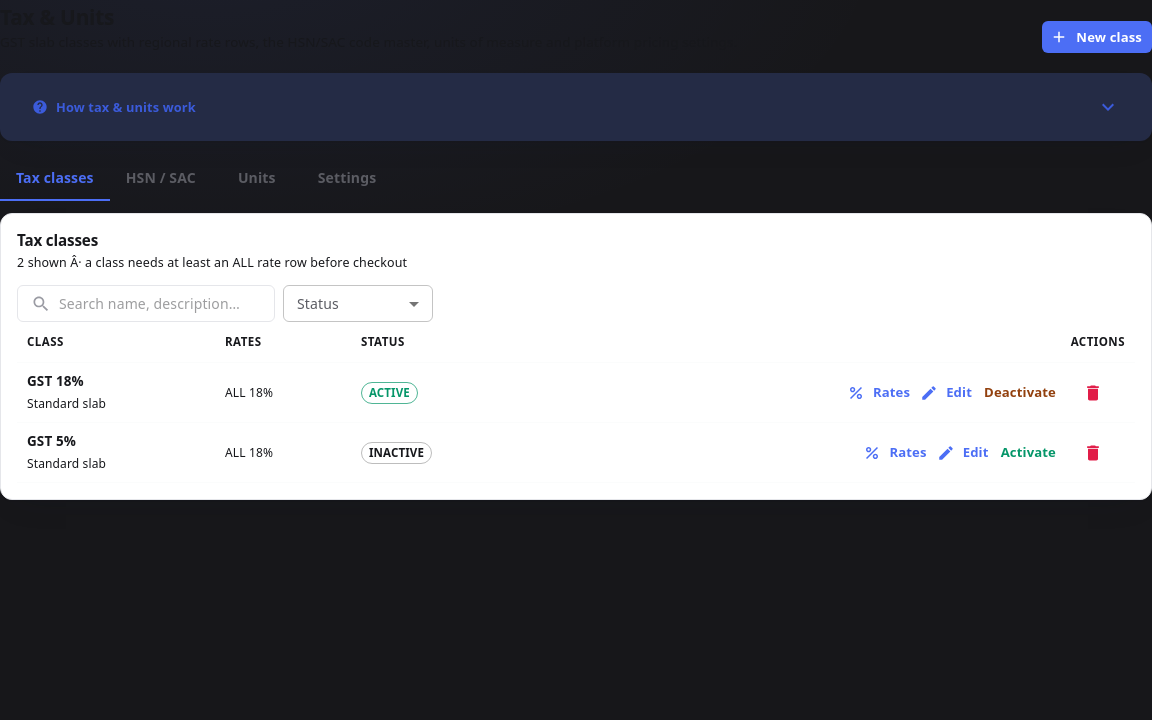
Scenario: TaxAdminView (admin) › opens the Rates drawer for a class
Click the button "Rates" in the row of "GST 18%" at [880, 393], box [844,377,915,409]
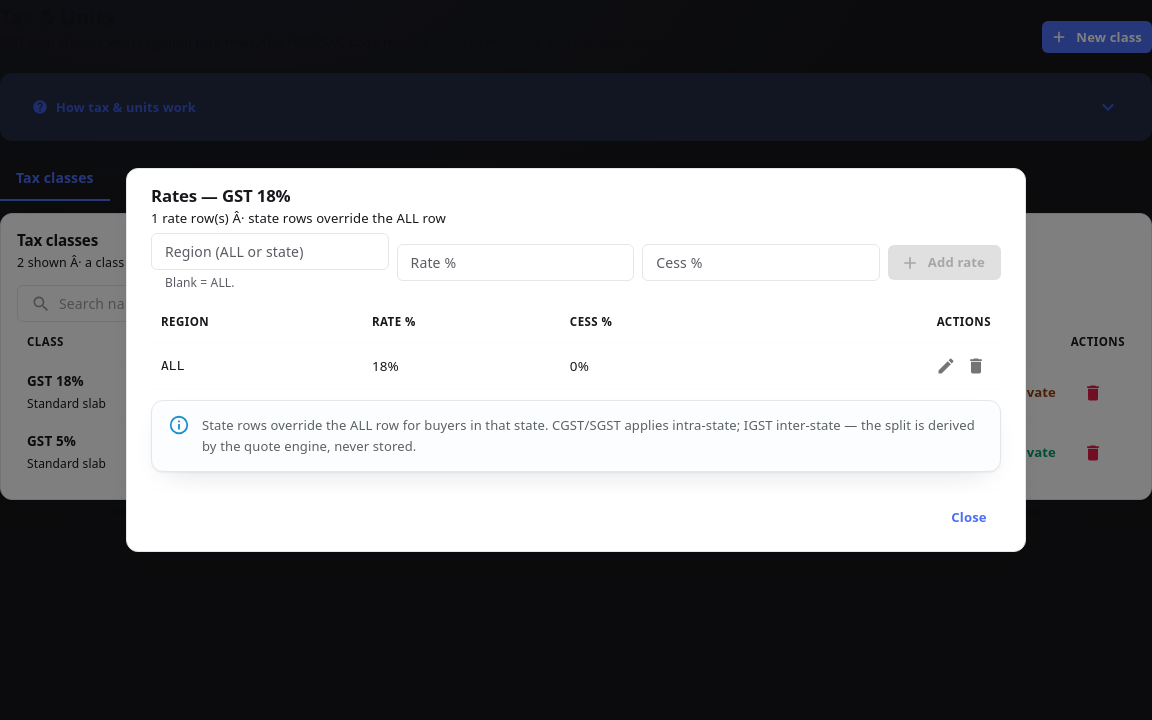
Expected: the heading "Rates — GST 18%" is shown, [151,184,290,207]
Expected: the button "Add rate" is shown, [888,245,1001,280]
Expected: the cell "18%" is shown, [362,343,560,390]
